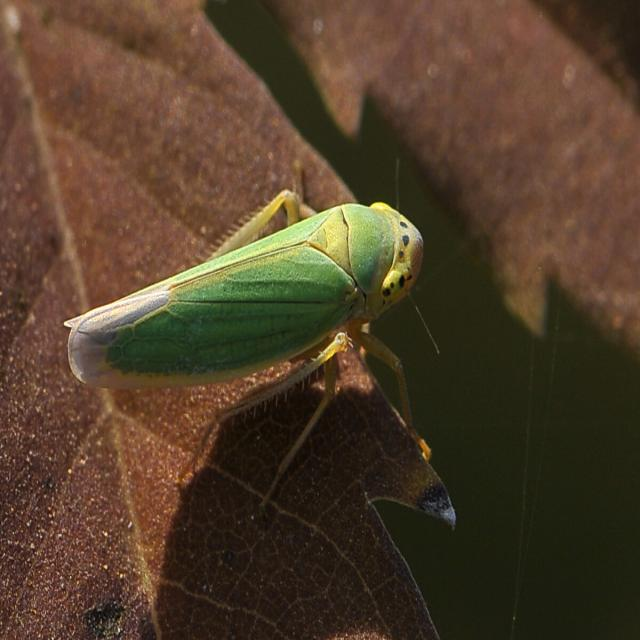Yechan: (57, 182, 452, 454)
